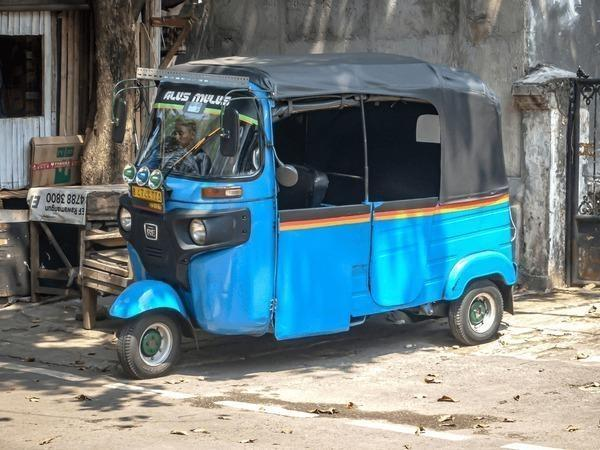keke: (93, 39, 518, 373)
